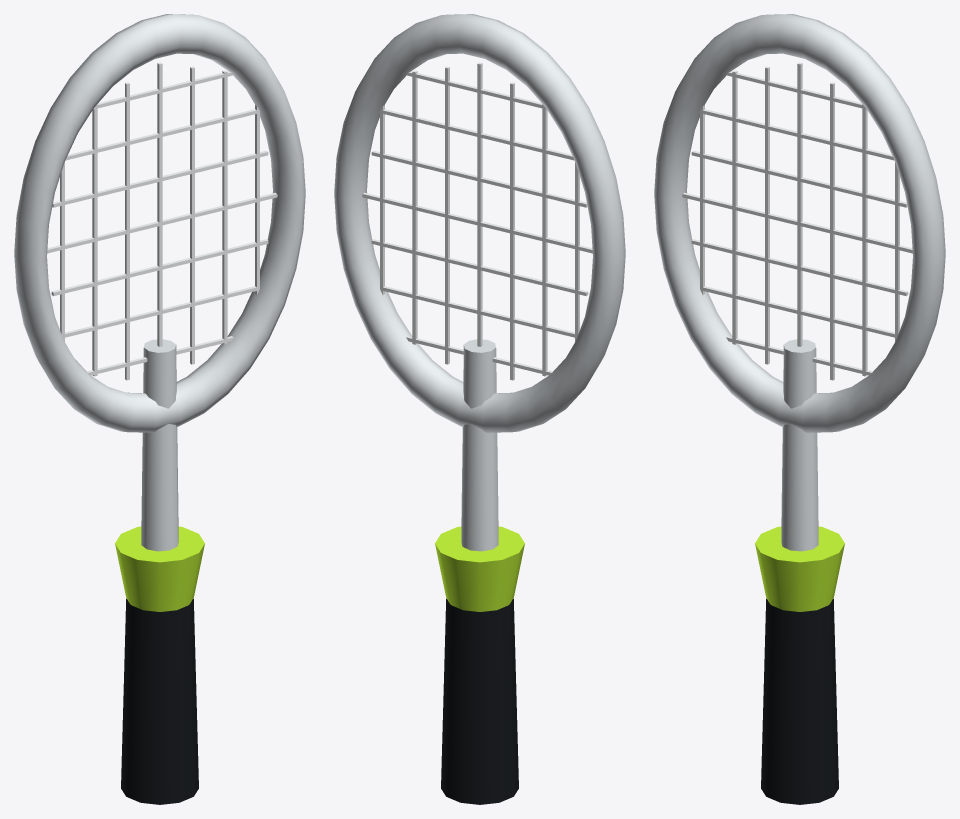
Rendered from fronton-racket.glb.
3 renders of one model, left to right at view 1: azimuth 30°, elevation 25°; view 2: azimuth 150°, elevation 25°; view 3: azimuth 330°, elevation 25°, orthographic.
Visible parts, largest first — view 1: Hoop, Grip, Shaft, Collar, StringV3, StringV5, StringV1, StringV2, StringV4, StringH3, StringH4, StringH2 (+6 smaller); view 2: Hoop, Grip, Shaft, Collar, StringV3, StringV5, StringV1, StringV2, StringV4, StringH3, StringH4, StringH2 (+6 smaller); view 3: Hoop, Grip, Shaft, Collar, StringV3, StringV1, StringV5, StringV4, StringV2, StringH3, StringH4, StringH2 (+6 smaller).
Boxes of the visible parts, left/top/right/bottom form: Hoop: left=14, top=14, right=305, bottom=432; Grip: left=121, top=598, right=198, bottom=804; Shaft: left=141, top=339, right=178, bottom=551; Collar: left=115, top=526, right=204, bottom=611; StringV3: left=157, top=62, right=162, bottom=346; StringV5: left=222, top=70, right=227, bottom=344; StringV1: left=92, top=104, right=97, bottom=376; StringV2: left=125, top=82, right=129, bottom=380; StringV4: left=190, top=66, right=194, bottom=364; StringH3: left=47, top=192, right=277, bottom=253; StringH4: left=52, top=150, right=268, bottom=207; StringH2: left=51, top=239, right=268, bottom=296; Hoop: left=334, top=14, right=625, bottom=432; Grip: left=441, top=598, right=518, bottom=804; Shaft: left=461, top=339, right=498, bottom=551; Collar: left=435, top=526, right=524, bottom=611; StringV3: left=477, top=62, right=482, bottom=346; StringV5: left=412, top=70, right=417, bottom=344; StringV1: left=542, top=104, right=547, bottom=376; StringV2: left=510, top=82, right=514, bottom=380; StringV4: left=445, top=66, right=449, bottom=364; StringH3: left=362, top=192, right=592, bottom=253; StringH4: left=371, top=150, right=587, bottom=207; StringH2: left=371, top=239, right=588, bottom=296; Hoop: left=654, top=14, right=945, bottom=432; Grip: left=761, top=598, right=838, bottom=804; Shaft: left=781, top=339, right=818, bottom=551; Collar: left=755, top=526, right=844, bottom=611; StringV3: left=797, top=62, right=802, bottom=346; StringV1: left=732, top=70, right=737, bottom=344; StringV5: left=862, top=104, right=867, bottom=376; StringV4: left=830, top=82, right=834, bottom=380; StringV2: left=765, top=66, right=769, bottom=364; StringH3: left=682, top=192, right=912, bottom=253; StringH4: left=691, top=150, right=907, bottom=207; StringH2: left=691, top=239, right=908, bottom=296.
Size of the model in its own units: 0.4384 by 1.13 by 0.12.
